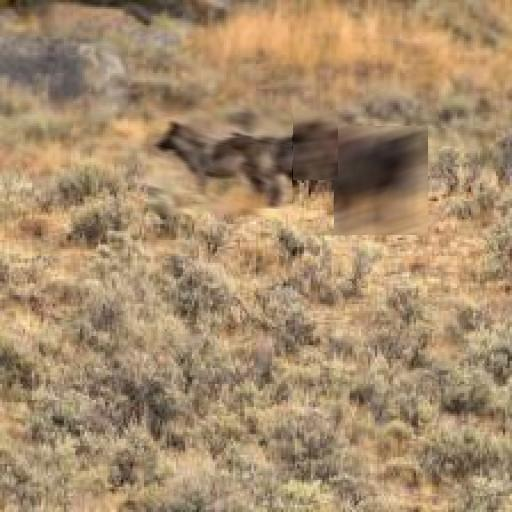wolf: (148, 105, 292, 214), (334, 126, 428, 235), (293, 110, 338, 180)
